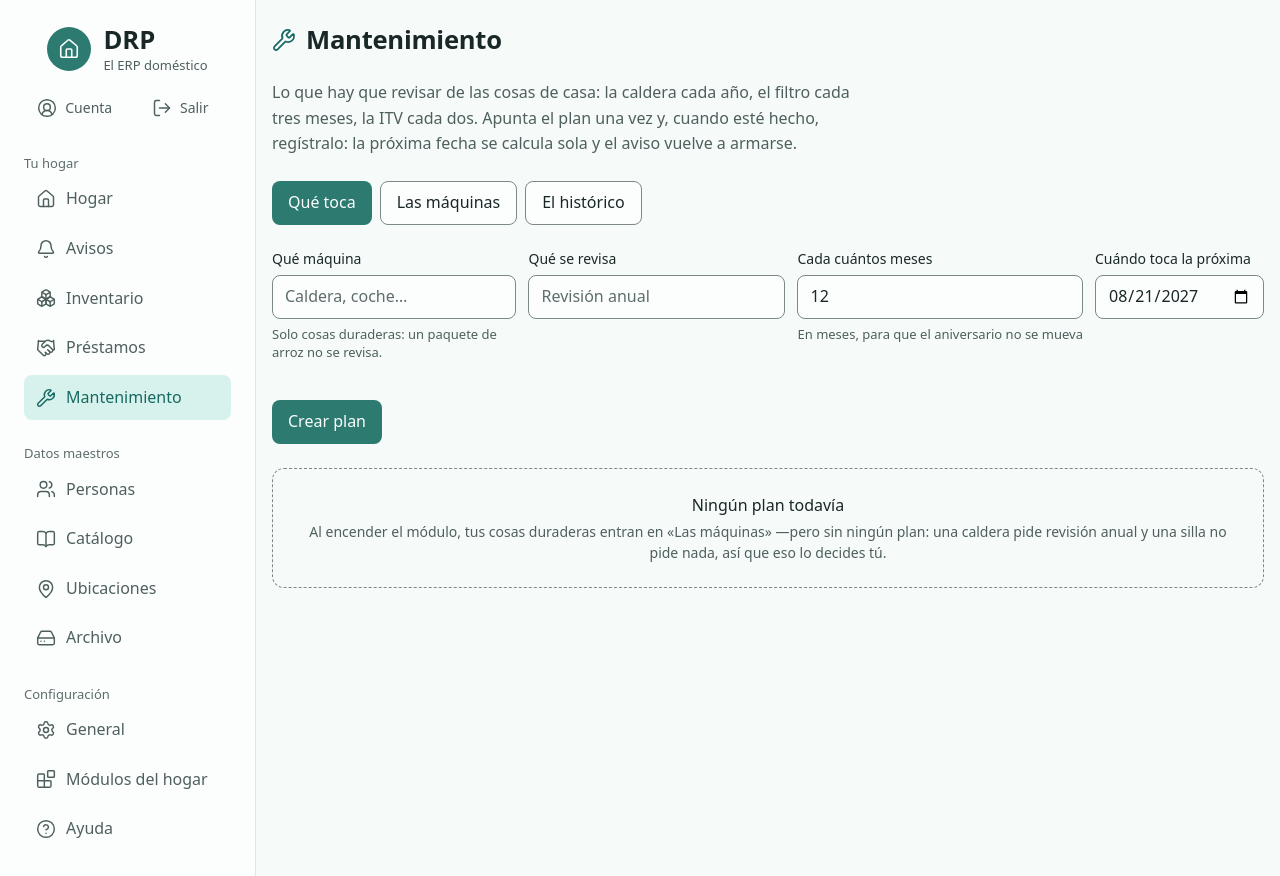
Test: las máquinas › una máquina sin planes lo dice, en vez de fingir que está al día
Expected: the heading "Mantenimiento" is shown, top-left (306, 24), bottom-right (502, 56)
Click the tab "Las máquinas" at point(448, 203), box top-left (380, 181), bottom-right (517, 225)
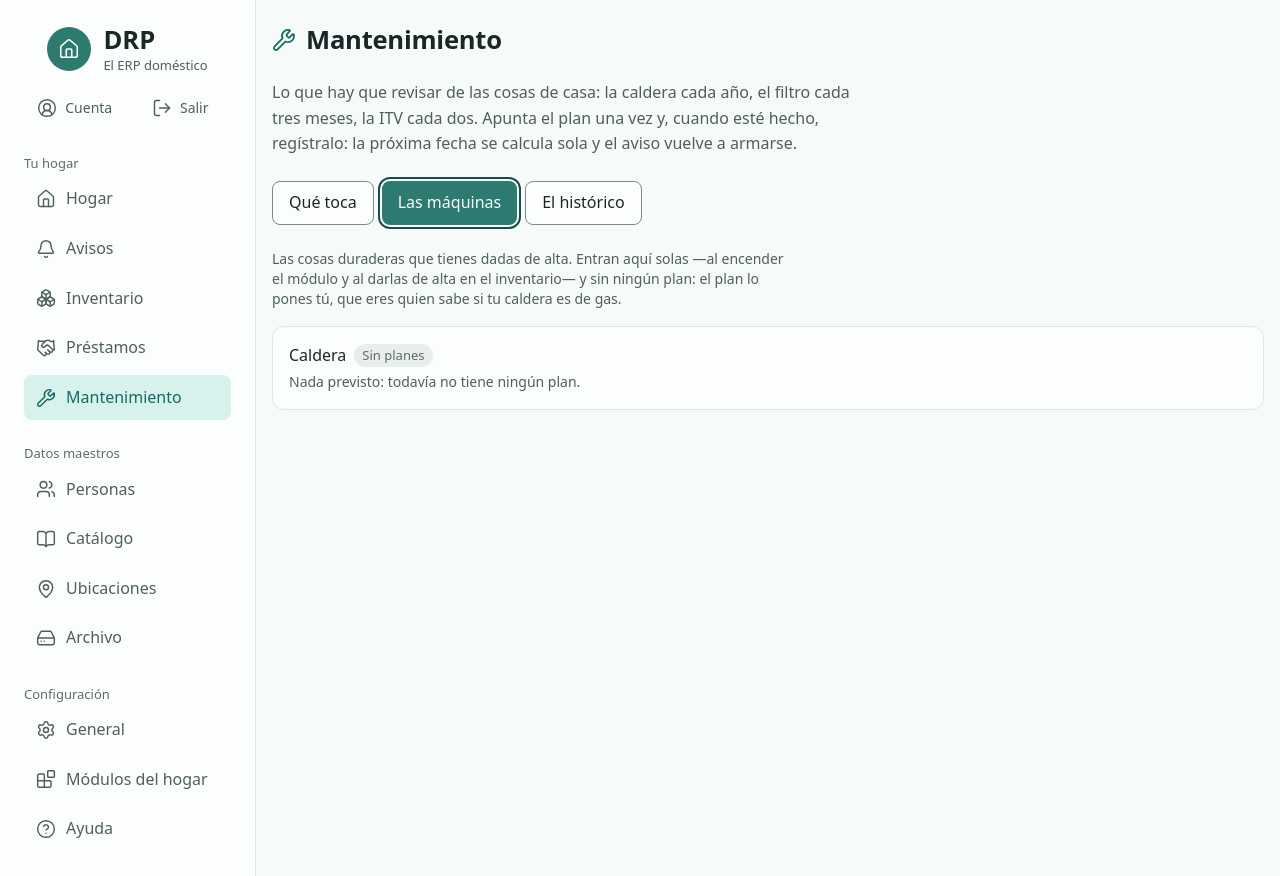
Now the text "Sin planes" is shown, box top-left (354, 344), bottom-right (432, 367)
Now the text "Nada previsto: todavía no tiene ningún plan." is shown, box top-left (289, 372), bottom-right (580, 391)
